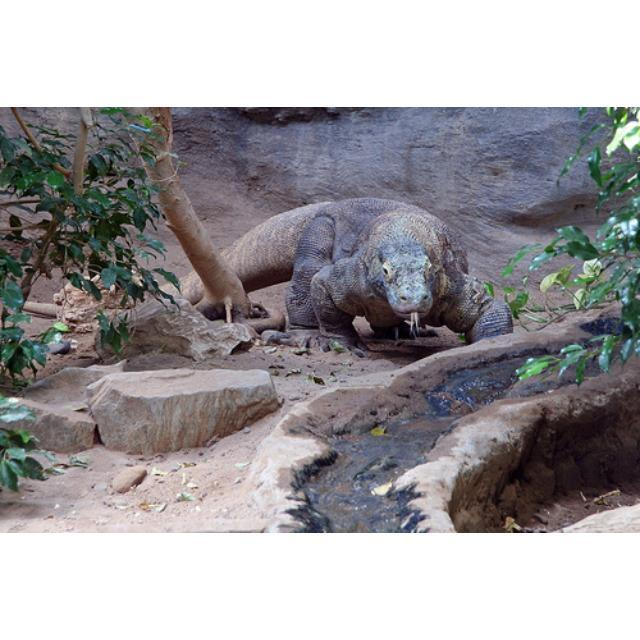KomodoDragon: (160, 196, 515, 350)
